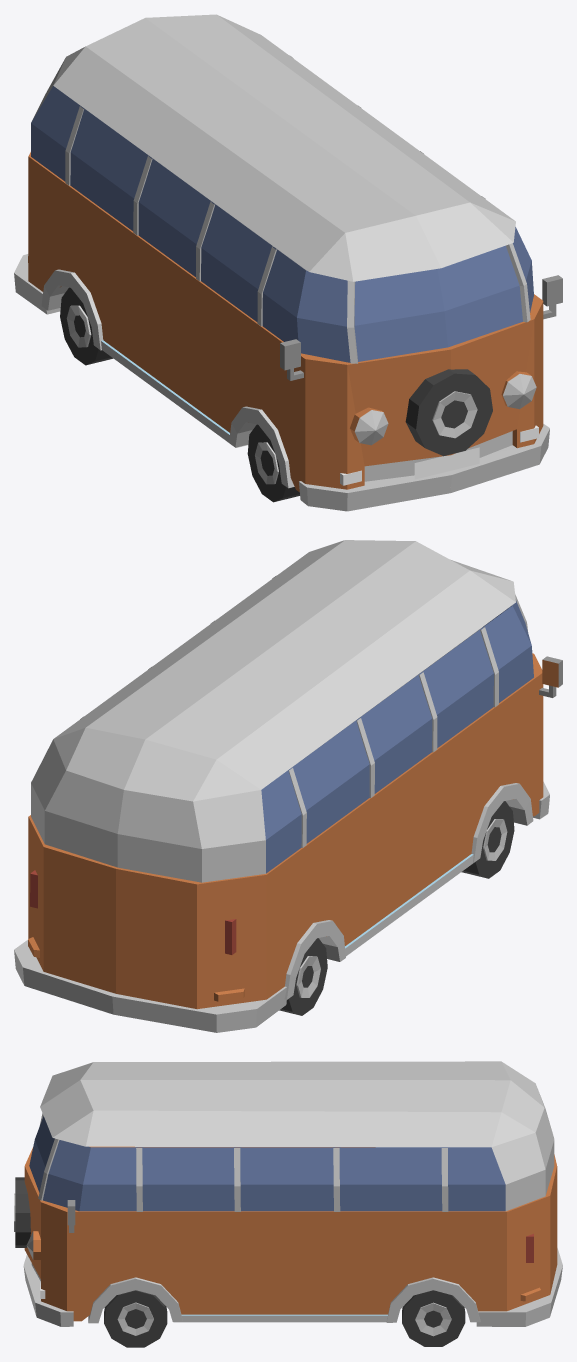
The model's file is transport_bus_001.fbx.
The picture shows the model from 3 angles, top to bottom: view 1: azimuth 30°, elevation 25°; view 2: azimuth 150°, elevation 25°; view 3: azimuth 270°, elevation 25°; orthographic projection. The views are drawn at different scales.
Parts seen in each view (by area): view 1: transport_bus_001; view 2: transport_bus_001; view 3: transport_bus_001.
Part boxes in pixels (bbox=[...]): transport_bus_001: bbox=[14, 14, 562, 511]; transport_bus_001: bbox=[14, 540, 562, 1032]; transport_bus_001: bbox=[14, 1061, 562, 1347].
Bounding box in the file's own units: 170 × 164 × 365.
